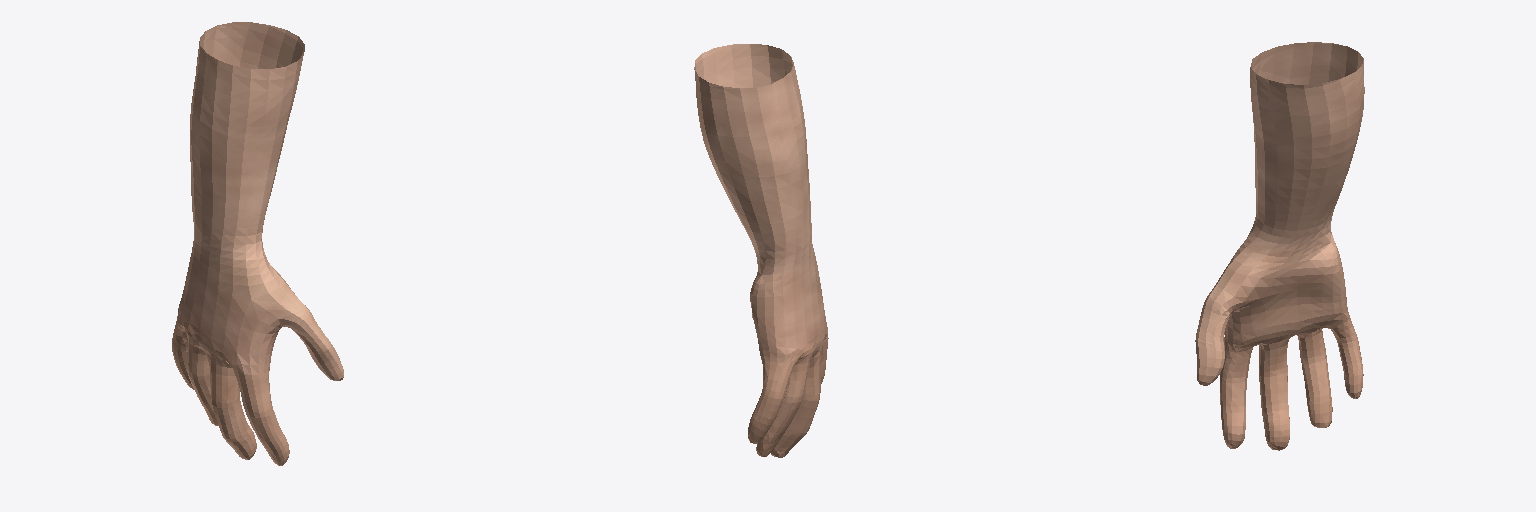
The picture shows the model from 3 angles: view 1: azimuth 30°, elevation 25°; view 2: azimuth 150°, elevation 25°; view 3: azimuth 270°, elevation 25°; orthographic projection.
Visible parts, largest first — view 1: brazoDER001; view 2: brazoDER001; view 3: brazoDER001.
Boxes of the visible parts, x1=… form: brazoDER001: x1=172, y1=22, x2=343, y2=465; brazoDER001: x1=694, y1=44, x2=828, y2=457; brazoDER001: x1=1195, y1=42, x2=1364, y2=450.
Bounding box in the file's own units: 0.0731 × 0.2546 × 0.098.
Materials: 1 (1 with a texture image).